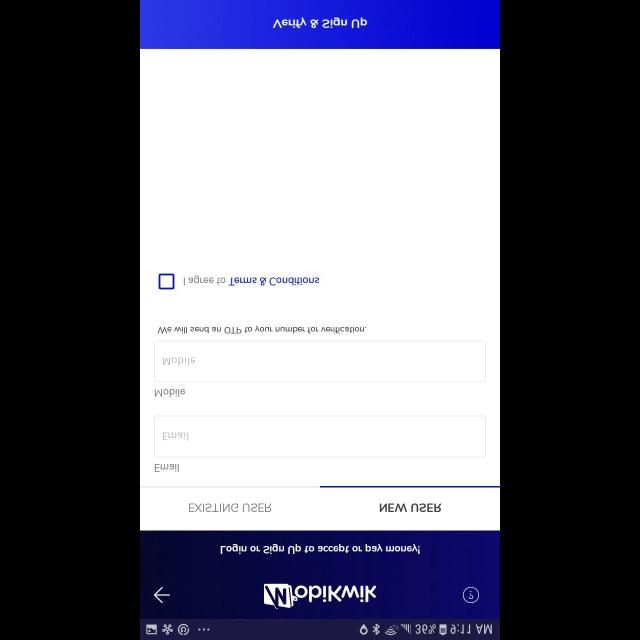checkbox: (158, 274, 174, 290)
icon: (154, 586, 170, 602), (463, 586, 479, 602)
image: (264, 583, 376, 609)
input: (154, 415, 486, 457), (154, 340, 486, 382)
text: (220, 542, 420, 554), (158, 326, 366, 334), (184, 275, 320, 285), (188, 502, 272, 512), (379, 503, 441, 512), (154, 388, 186, 398), (163, 358, 195, 367), (154, 463, 180, 472), (163, 432, 189, 441)
textbutton: (140, 0, 499, 49)
uppertaskbar: (140, 618, 500, 640)
